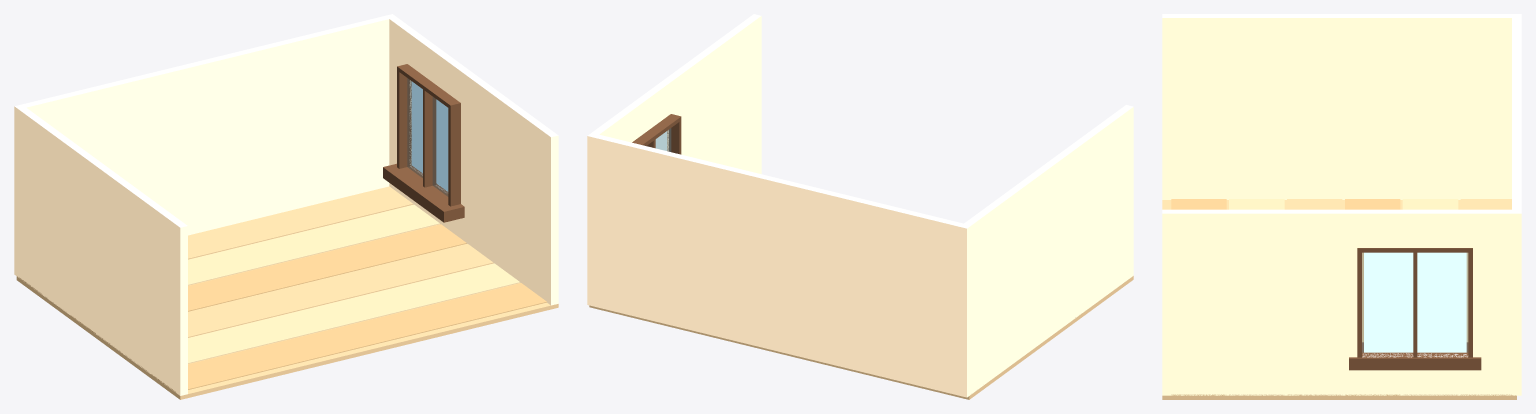
File: room-shell-lod1.glb
3 views of the same model, side by side, from view 1: azimuth 30°, elevation 25°; view 2: azimuth 150°, elevation 25°; view 3: azimuth 270°, elevation 25° (orthographic). The views are drawn at different scales.
Parts seen in each view (by area): view 1: MESH_BackWall, MESH_LeftWall, MESH_RightWallFront, MESH_FloorBoard_L1_5, MESH_FloorBoard_L1_4, MESH_FloorBoard_L1_3, MESH_RightWallUpper, MESH_FloorBoard_L1_2, MESH_FloorBoard_L1_1, MESH_FloorBoard_L1_0, MESH_Floor, MESH_RightWallLower (+8 smaller); view 2: MESH_BackWall, MESH_LeftWall, MESH_RightWallFront, MESH_RightWallUpper, MESH_Floor, MESH_WindowFrameTop; view 3: MESH_LeftWall, MESH_RightWallFront, MESH_RightWallUpper, MESH_RightWallLower, MESH_WindowSky, MESH_RightWallBack, MESH_BackWall, MESH_WindowSill, MESH_Floor, MESH_FloorBoard_L1_0, MESH_FloorBoard_L1_2, MESH_FloorBoard_L1_1 (+7 smaller).
Part boxes in pixels (x1=…): MESH_BackWall: x1=14, y1=14, x2=396, y2=277; MESH_LeftWall: x1=16, y1=107, x2=187, y2=395; MESH_RightWallFront: x1=461, y1=107, x2=558, y2=269; MESH_FloorBoard_L1_5: x1=151, y1=283, x2=546, y2=392; MESH_FloorBoard_L1_4: x1=125, y1=263, x2=520, y2=371; MESH_FloorBoard_L1_3: x1=98, y1=244, x2=493, y2=353; MESH_RightWallUpper: x1=389, y1=16, x2=558, y2=172; MESH_FloorBoard_L1_2: x1=70, y1=224, x2=466, y2=333; MESH_FloorBoard_L1_1: x1=45, y1=204, x2=439, y2=307; MESH_FloorBoard_L1_0: x1=17, y1=186, x2=413, y2=294; MESH_Floor: x1=16, y1=204, x2=558, y2=399; MESH_RightWallLower: x1=389, y1=152, x2=558, y2=305; MESH_BackWall: x1=587, y1=133, x2=971, y2=397; MESH_LeftWall: x1=964, y1=105, x2=1133, y2=394; MESH_RightWallFront: x1=667, y1=52, x2=761, y2=167; MESH_RightWallUpper: x1=590, y1=14, x2=761, y2=142; MESH_Floor: x1=589, y1=276, x2=1133, y2=399; MESH_WindowFrameTop: x1=632, y1=115, x2=679, y2=145; MESH_LeftWall: x1=1162, y1=14, x2=1516, y2=199; MESH_RightWallFront: x1=1162, y1=252, x2=1357, y2=357; MESH_RightWallUpper: x1=1162, y1=209, x2=1516, y2=252; MESH_RightWallLower: x1=1162, y1=353, x2=1516, y2=395; MESH_WindowSky: x1=1364, y1=252, x2=1466, y2=352; MESH_RightWallBack: x1=1473, y1=252, x2=1516, y2=357; MESH_BackWall: x1=1512, y1=14, x2=1521, y2=395; MESH_WindowSill: x1=1349, y1=342, x2=1481, y2=370; MESH_Floor: x1=1162, y1=200, x2=1516, y2=399; MESH_FloorBoard_L1_0: x1=1460, y1=199, x2=1515, y2=395; MESH_FloorBoard_L1_2: x1=1345, y1=199, x2=1400, y2=395; MESH_FloorBoard_L1_1: x1=1402, y1=199, x2=1458, y2=395.
Size of the model in its own units: 8.06 by 3.48 by 6.08.
